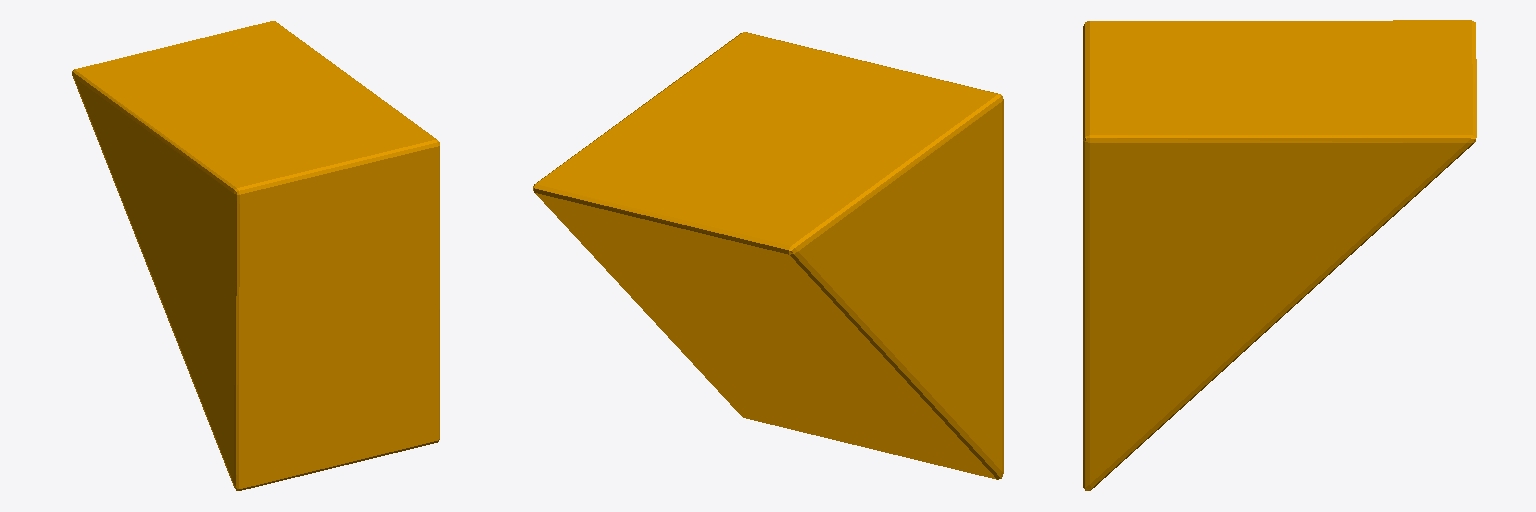
The robot description file, URDF, robot "object":
<?xml version="1.0"?>
<robot name="object">
  <link name="object">
    <visual>
      <origin xyz="0 0 0"/>
      <geometry>
        <mesh filename="white_ramp.obj" scale="0.7 1 1"/>
      </geometry>
    </visual>
    <collision>
      <origin xyz="0 0 0"/>
      <geometry>
        <mesh filename="white_ramp.obj" scale="0.7 1 1"/>
      </geometry>
    </collision>

  </link>
</robot>

--- Render facts (derived) ---
The picture shows the robot from 3 angles, left to right: view 1: azimuth 30°, elevation 25°; view 2: azimuth 150°, elevation 25°; view 3: azimuth 270°, elevation 25°; orthographic projection.
Robot: object — 1 links, 0 joints (none); root link object; default pose: every joint at zero.
Links seen in each view (by area): view 1: object; view 2: object; view 3: object.
Link boxes in pixels (x1=…): object: x1=72, y1=21, x2=439, y2=490; object: x1=533, y1=32, x2=1003, y2=479; object: x1=1083, y1=20, x2=1476, y2=490.
Bounding box of the posed robot: 1.4 × 1.97 × 1.97 m (x, y, z).
Meshes: 1 distinct files referenced, 1 mesh visuals loaded (1 OBJ).
